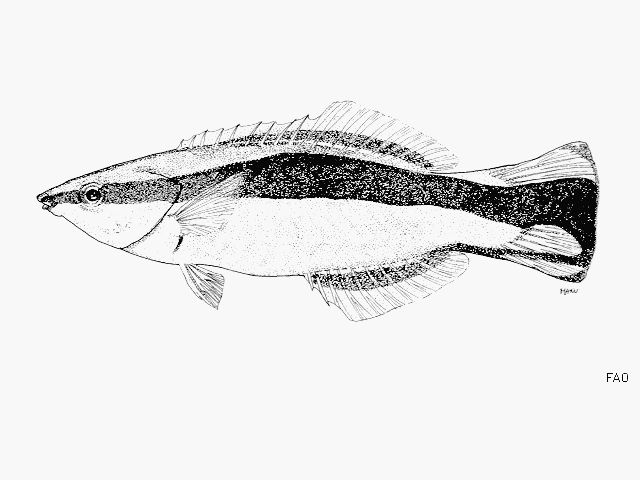fish: (36, 100, 602, 322)
